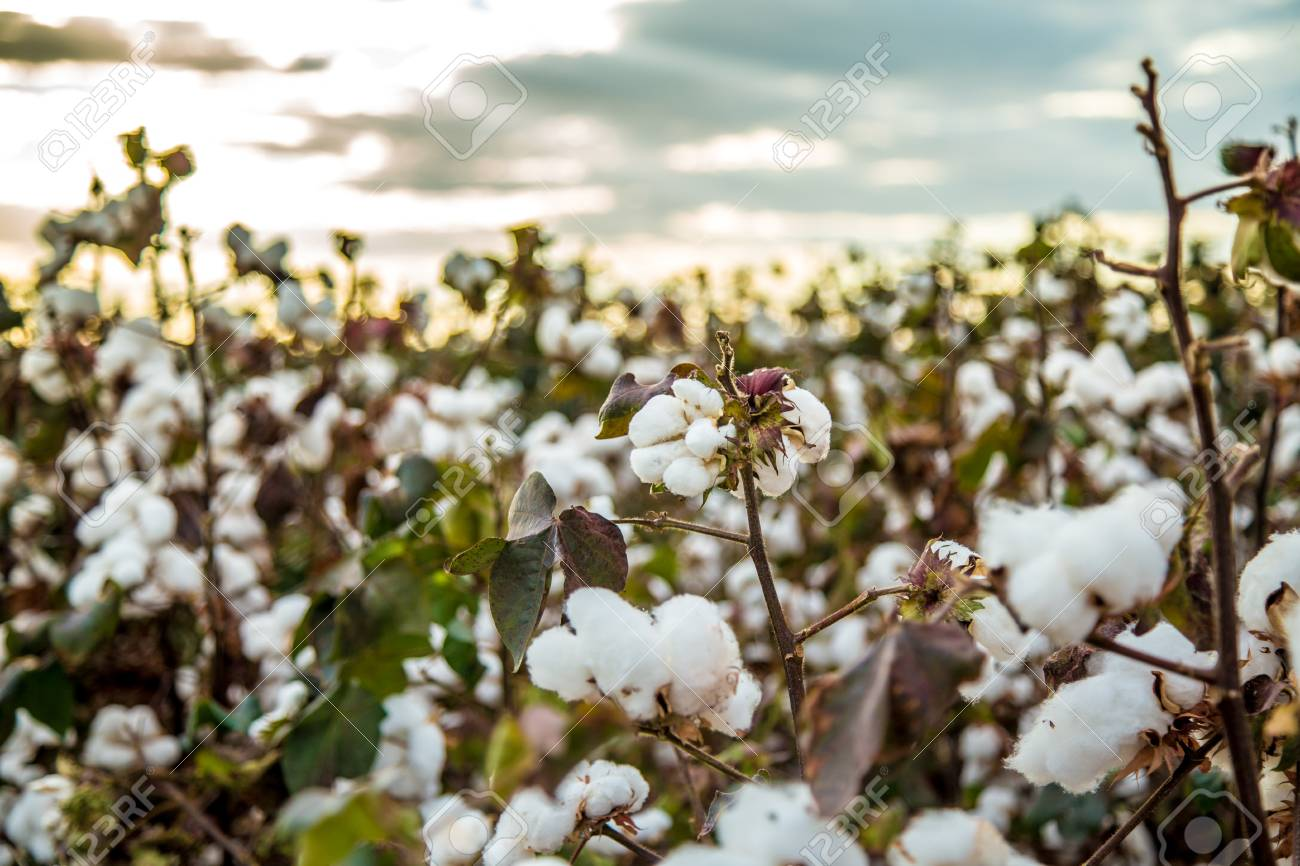cotton: (406, 343, 882, 863), (21, 215, 390, 758), (897, 278, 1254, 815)
